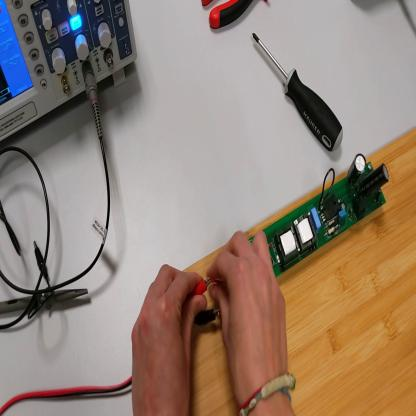hand: (209, 234, 290, 404), (131, 262, 204, 415)
high voltage board: (210, 153, 390, 286)
oscilloscope: (1, 2, 137, 145)
oscilloscope probe tip: (2, 289, 88, 317)
pliers: (203, 2, 272, 30)
working area: (185, 128, 416, 415)
